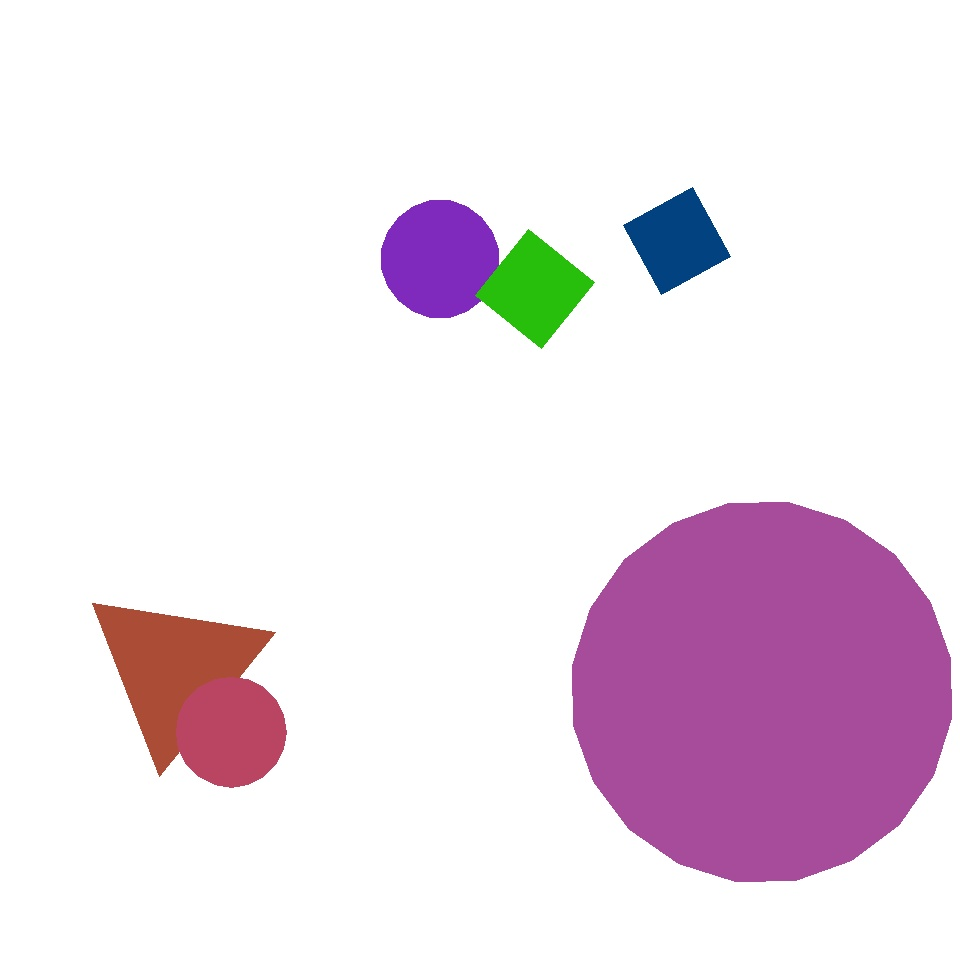circle: (371, 732, 561, 942), (84, 584, 268, 758), (168, 449, 332, 601), (107, 36, 236, 152), (279, 411, 399, 523)
square: (475, 229, 594, 348), (624, 188, 730, 294)
triangle: (572, 502, 952, 882), (52, 310, 362, 620), (203, 324, 446, 566), (382, 200, 498, 317), (176, 677, 286, 787)
